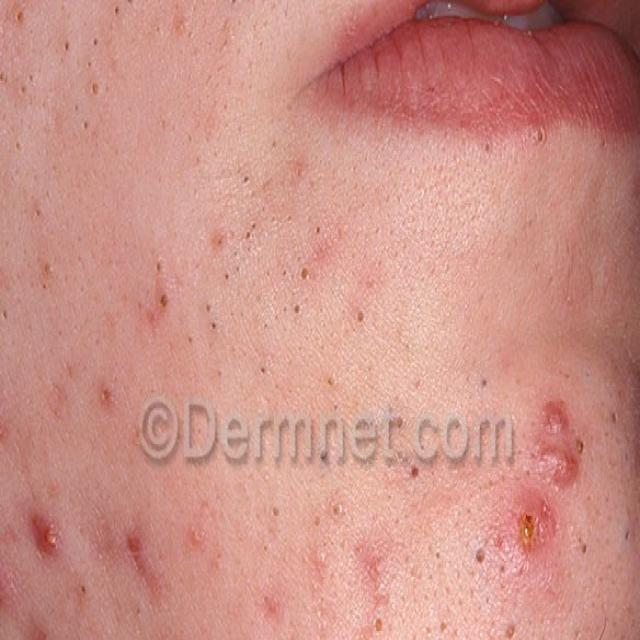Acne: (134, 144, 408, 346), (497, 366, 613, 589), (308, 467, 407, 640), (116, 497, 223, 614), (3, 486, 81, 578)
